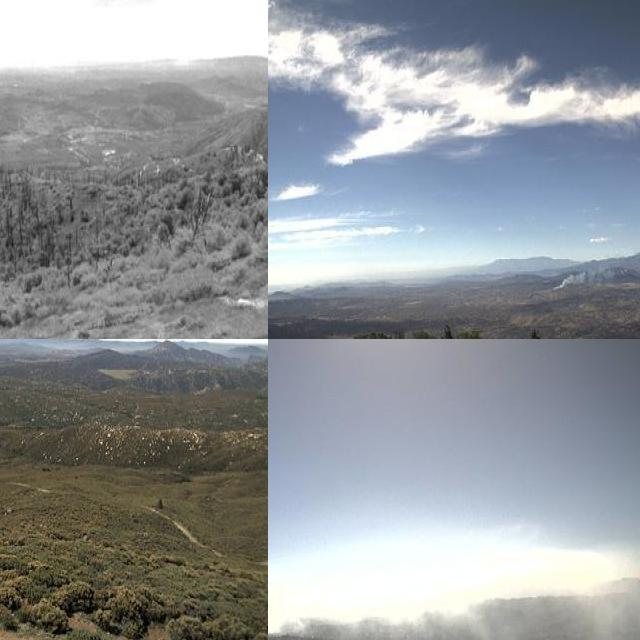smoke: (268, 555, 597, 640), (547, 256, 630, 292)
